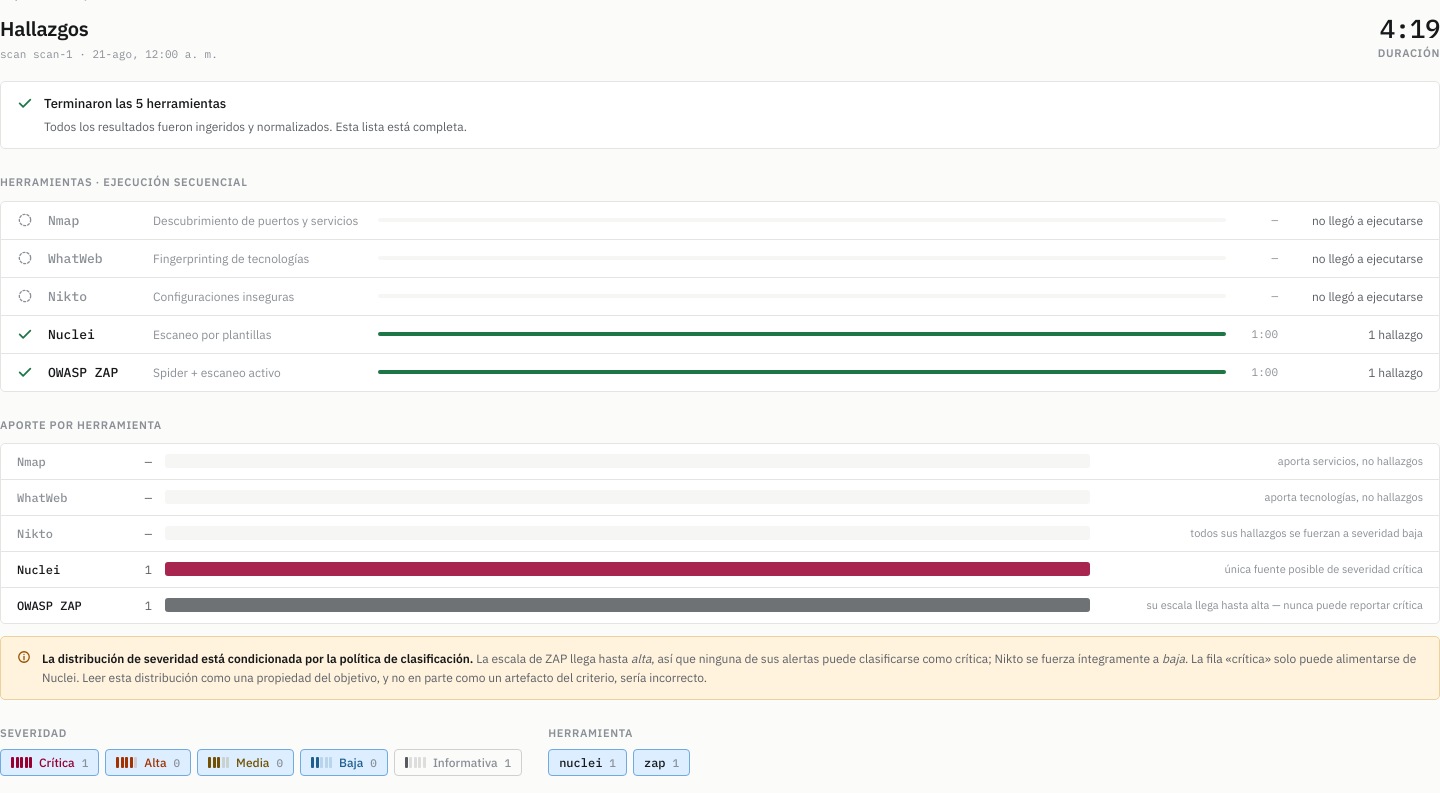
Test: ScanDetailPage › reveals info findings when the severity chip is toggled on
Click the button "Informativa 1" at (458,763), box x1=394 y1=749 x2=522 y2=776
(page scrolled)
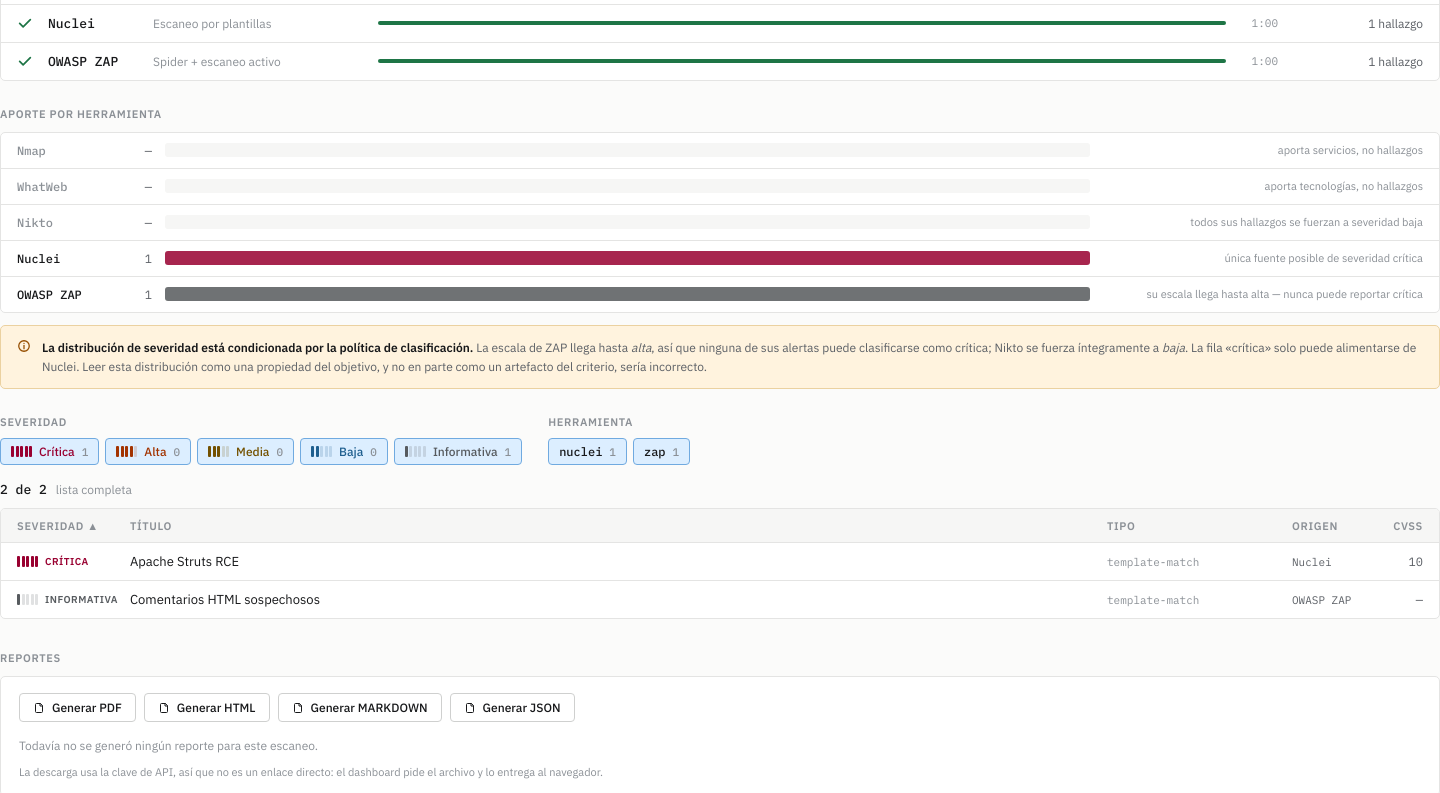
Expected: the text "Comentarios HTML sospechosos" is shown, x1=130 y1=591 x2=320 y2=608
